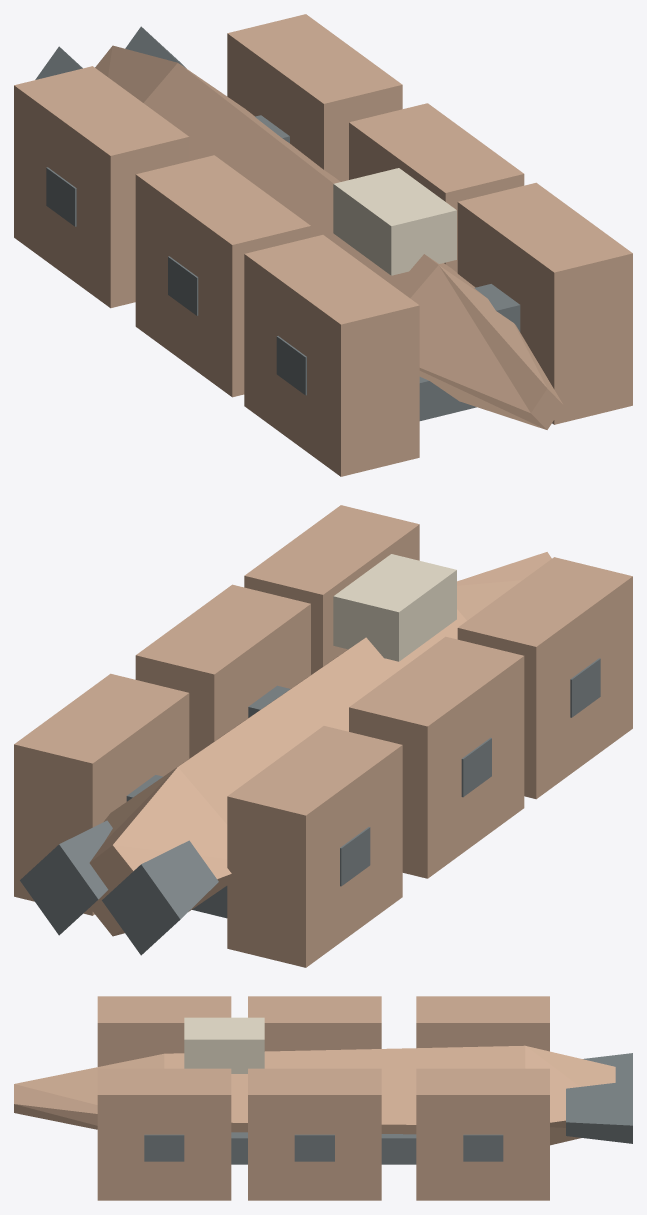
The picture shows the model from 3 angles, top to bottom: view 1: azimuth 30°, elevation 25°; view 2: azimuth 150°, elevation 25°; view 3: azimuth 270°, elevation 25°; orthographic projection. The views are drawn at different scales.
Bounding box in the file's own units: 3.64 × 2.08 × 9.54.
